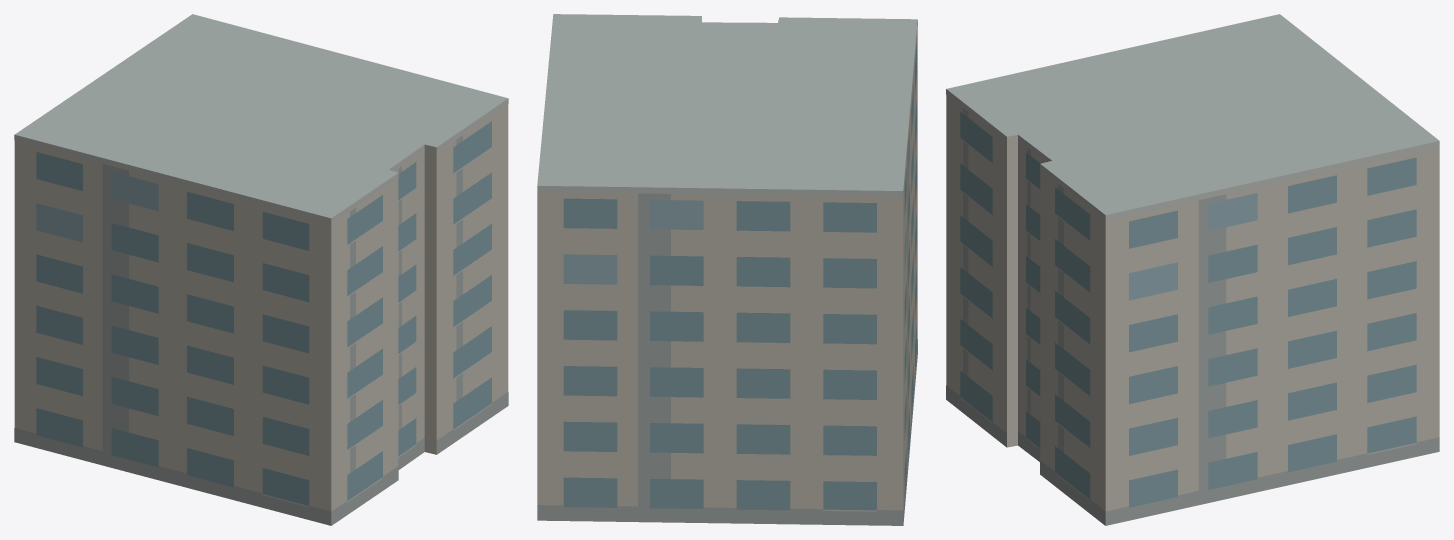
Rendered from survey-upis-32894152.glb.
3 renders of one model, left to right at view 1: azimuth 30°, elevation 25°; view 2: azimuth 150°, elevation 25°; view 3: azimuth 270°, elevation 25°, orthographic. The views are drawn at different scales.
Visible parts, largest first — view 1: survey-upis-32894152.tmp; view 2: survey-upis-32894152.tmp; view 3: survey-upis-32894152.tmp.
Boxes of the visible parts, left/top/right/bottom form: survey-upis-32894152.tmp: left=14, top=14, right=508, bottom=525; survey-upis-32894152.tmp: left=537, top=14, right=917, bottom=525; survey-upis-32894152.tmp: left=946, top=14, right=1439, bottom=525.
Bounding box in the file's own units: 18.19 × 13.1 × 18.86.
